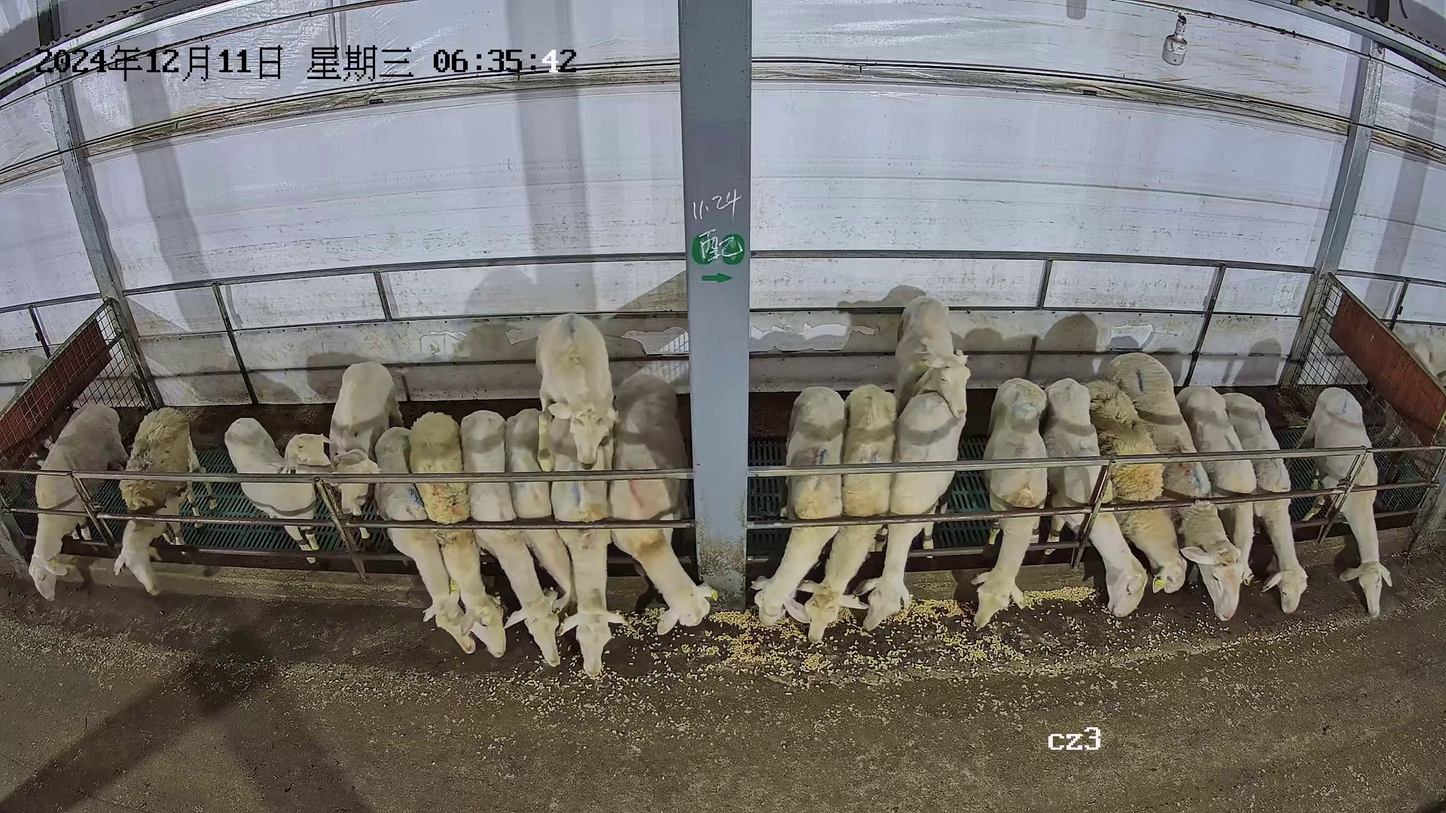Nmounting: (531, 311, 626, 674)
